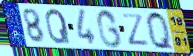4: (77, 8, 97, 48)
8: (22, 7, 45, 44)
G: (95, 8, 123, 49)
Q: (145, 9, 176, 52), (45, 8, 72, 46)
Z: (121, 13, 150, 47)
